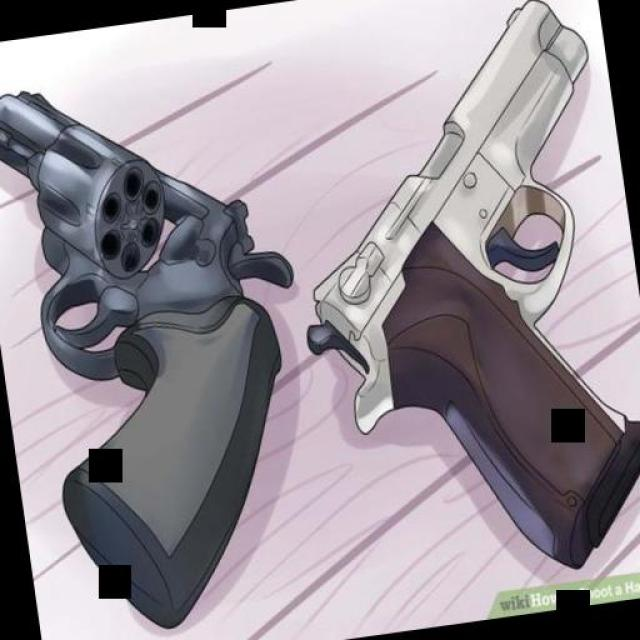gun: (264, 0, 640, 606), (0, 55, 350, 640)
